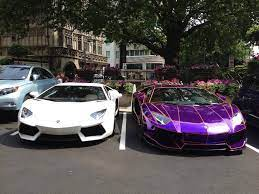Lamborghini: (131, 82, 247, 154), (31, 82, 117, 144)
